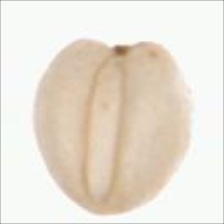L5: (75, 56, 127, 202), (67, 190, 155, 216), (99, 41, 148, 58)
L6: (32, 37, 195, 217)
